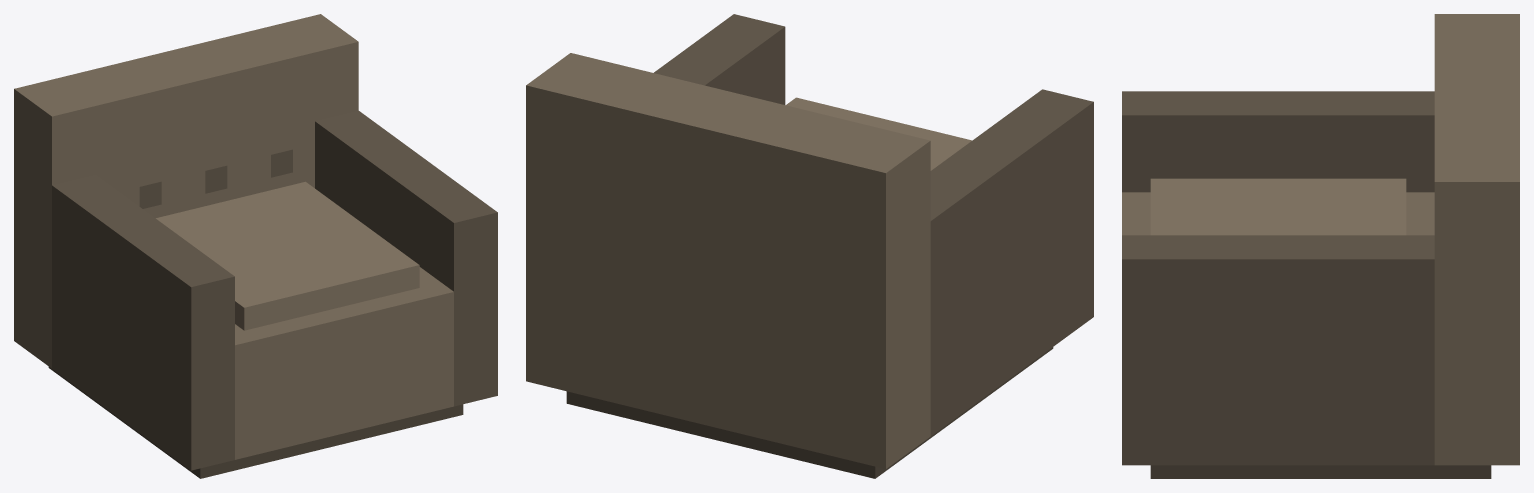
The model's file is sillon_orejero_cuero_01.glb.
The picture shows the model from 3 angles, left to right: view 1: azimuth 30°, elevation 25°; view 2: azimuth 150°, elevation 25°; view 3: azimuth 270°, elevation 25°; orthographic projection. The views are drawn at different scales.
Parts seen in each view (by area): view 1: sillon_orejero_cuero; view 2: sillon_orejero_cuero; view 3: sillon_orejero_cuero.
Boxes of the visible parts, x1,y1,x2,y2 form: sillon_orejero_cuero: (14, 14, 497, 478); sillon_orejero_cuero: (526, 14, 1093, 478); sillon_orejero_cuero: (1122, 14, 1519, 478).
Bounding box in the file's own units: 1 × 0.8571 × 1.
